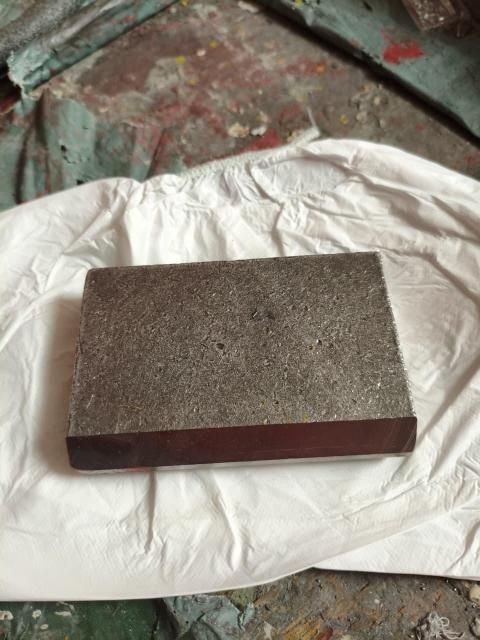Metal: (72, 250, 418, 458)
